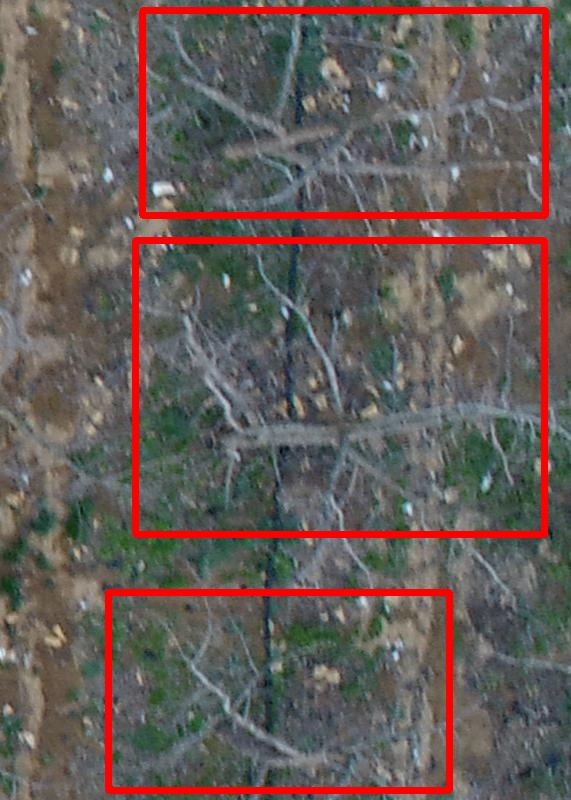apple: (135, 240, 544, 534), (142, 10, 545, 215), (108, 592, 449, 790)
